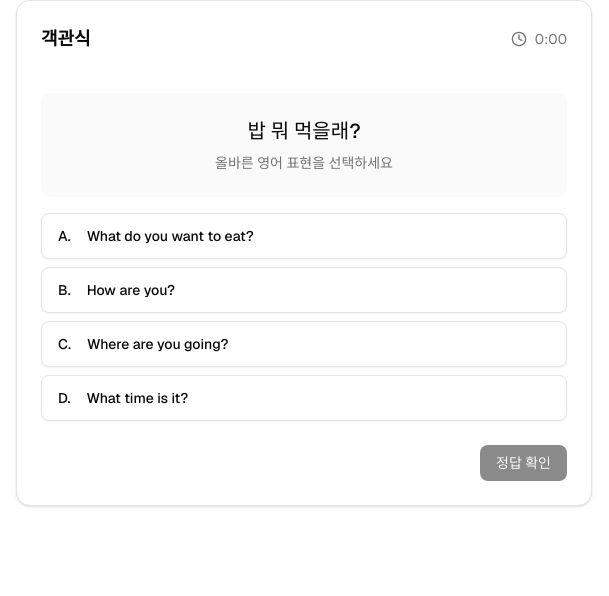
QuizCard › Multiple choice quiz › should show correct/incorrect styling after submission
Click the button with test id "quiz-option-0". click: (170, 236)
box: [41,213,567,259]
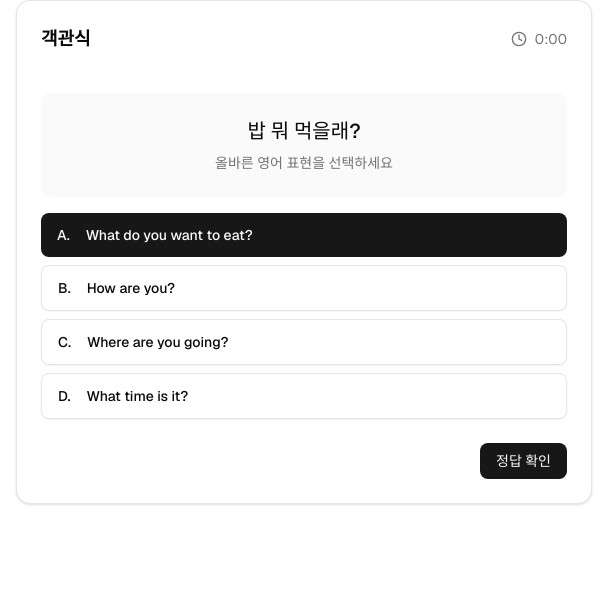
Click the button with test id "submit-button". click: (524, 461)
box: [480,443,567,479]
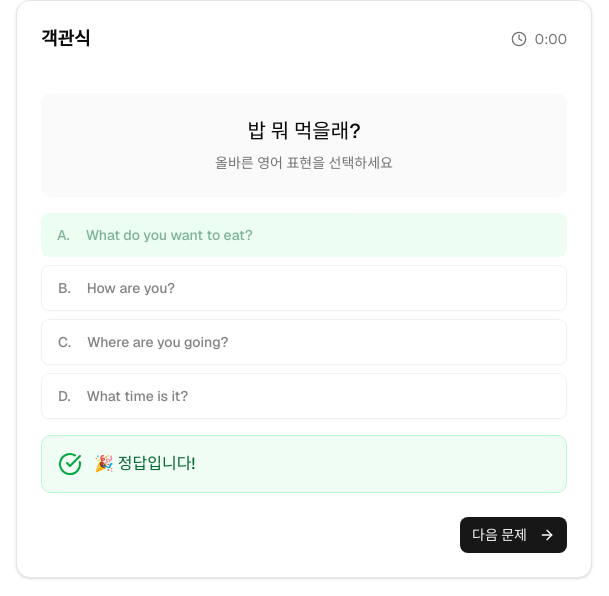
Expected: the text "🎉 정답입니다!" is shown, [94,452,195,476]
